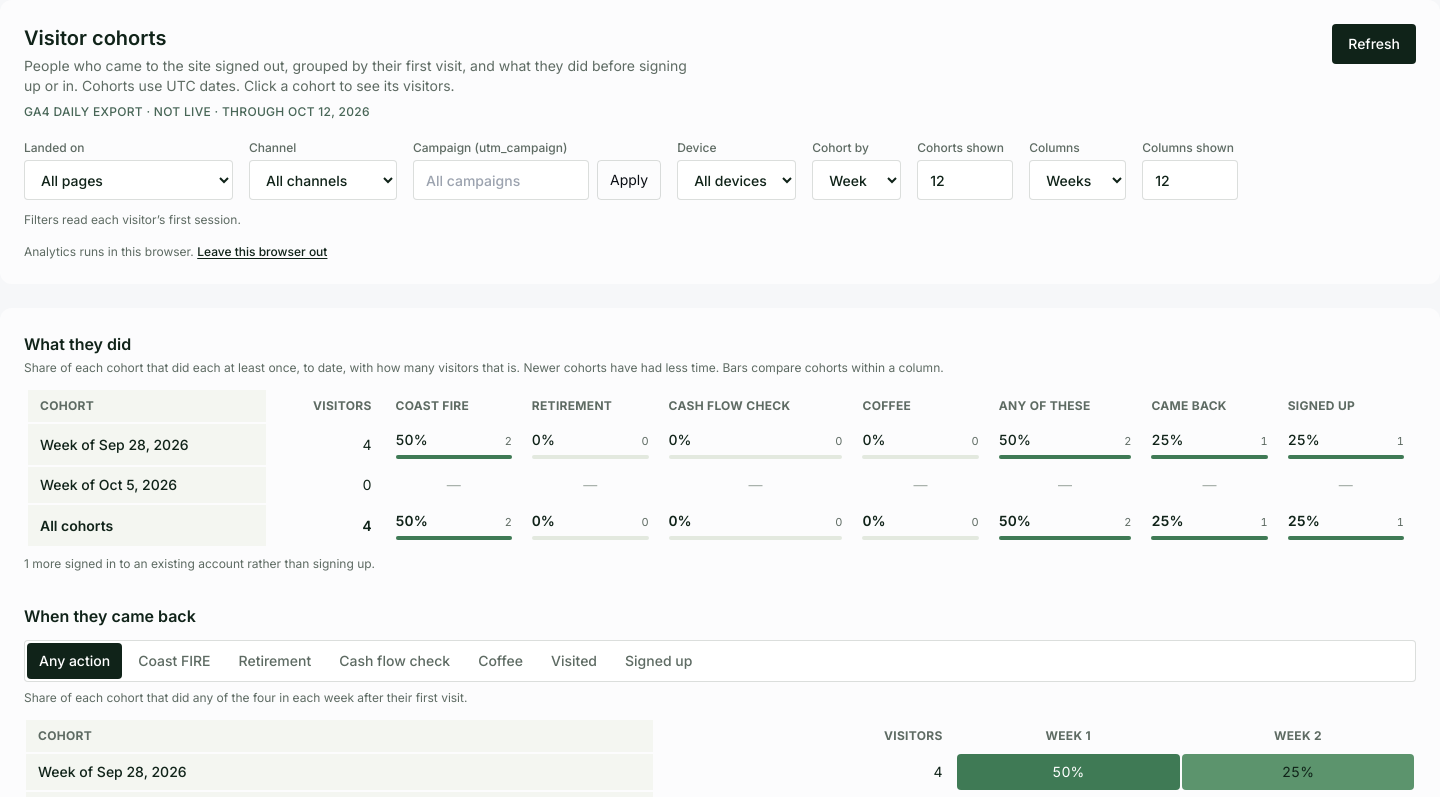
Scenario: VisitorCohortPanel › takes the old grid down when the report for new filters fails
Expected: the element "What they did" is shown, [24,332,1416,572]
Select "Mobile" in the dropdown labelled "Device" at (737, 180), box [677,160,796,200]
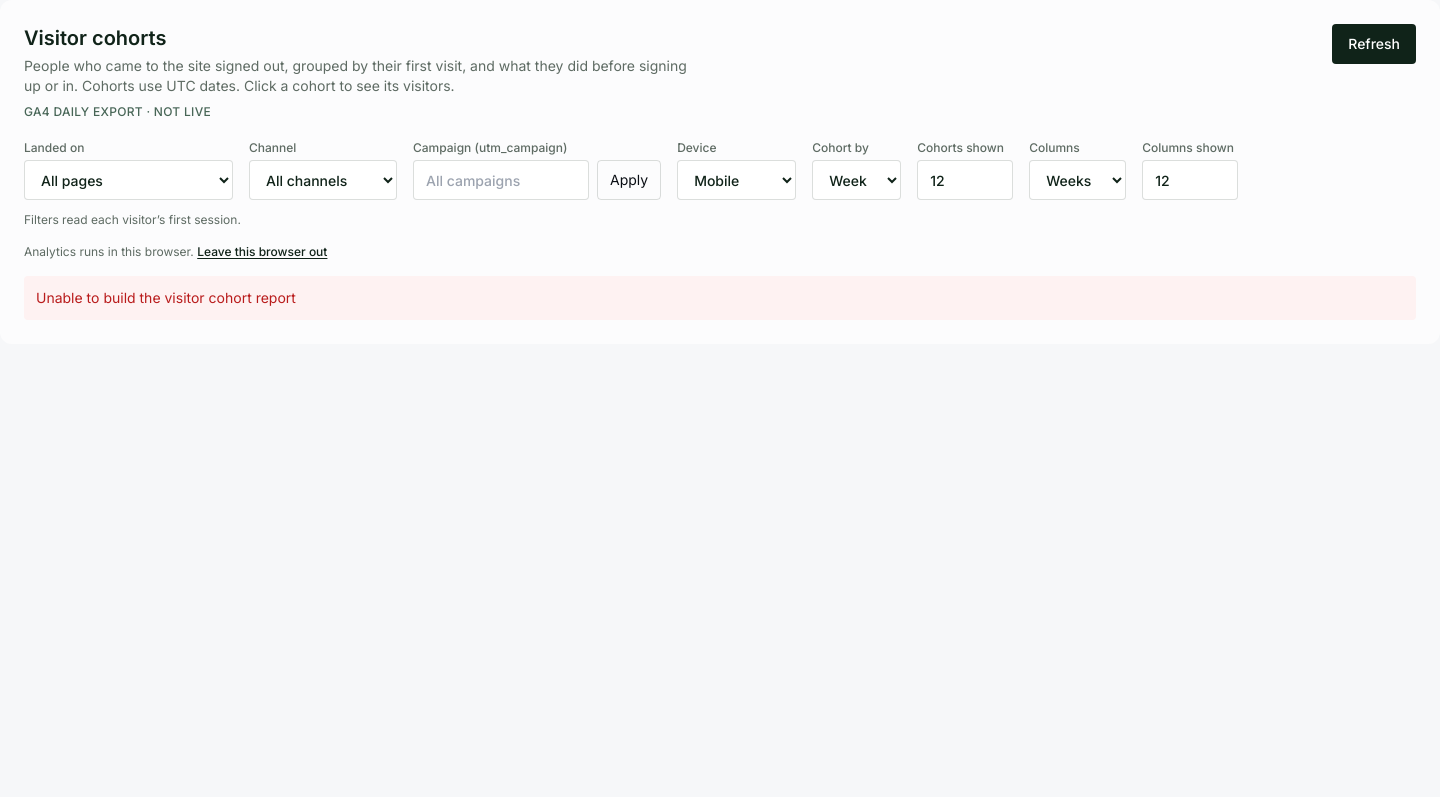
Expected: the element "What they did" is not shown
Now the text "Unable to build the visitor cohort report" is shown, box [24,276,1416,320]
